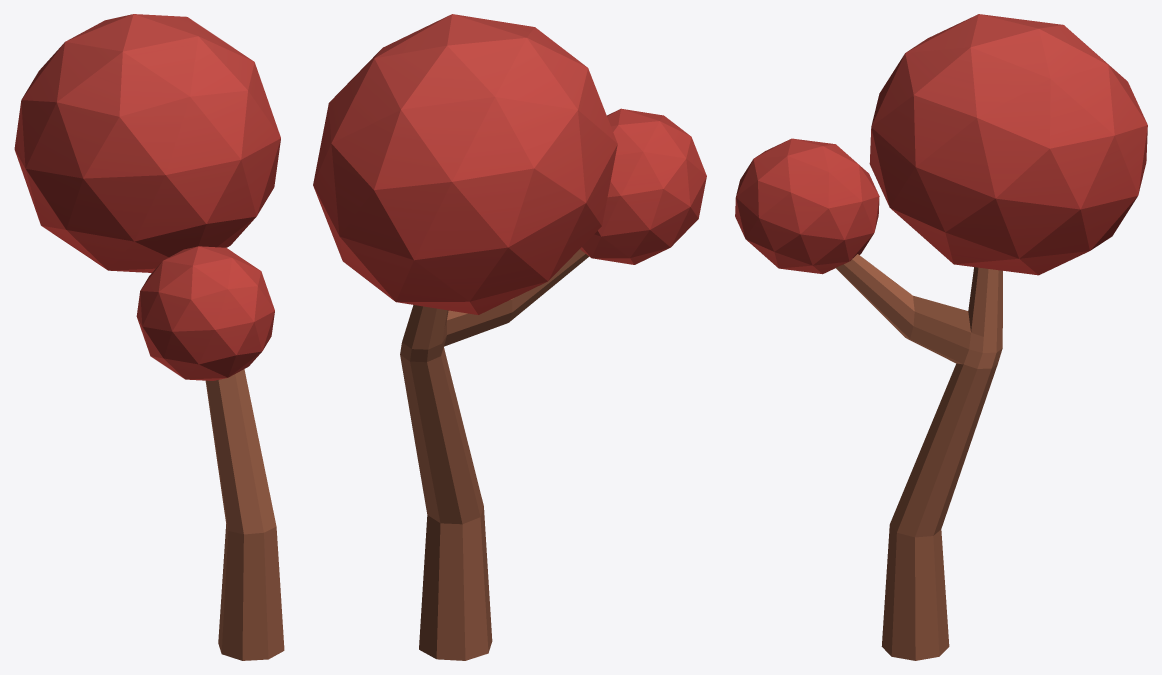
The model's file is Tree_02_gradient_red_pal.fbx.
The picture shows the model from 3 angles, left to right: view 1: azimuth 30°, elevation 25°; view 2: azimuth 150°, elevation 25°; view 3: azimuth 270°, elevation 25°; orthographic projection. The views are drawn at different scales.
Parts seen in each view (by area): view 1: Tree_02_gradient_red_pal; view 2: Tree_02_gradient_red_pal; view 3: Tree_02_gradient_red_pal.
Part boxes in pixels (x1,y1,x2,y2): Tree_02_gradient_red_pal: [14, 14, 284, 660]; Tree_02_gradient_red_pal: [313, 14, 706, 660]; Tree_02_gradient_red_pal: [735, 14, 1147, 660].
Size of the model in its own units: 71.42 by 177 by 112.
